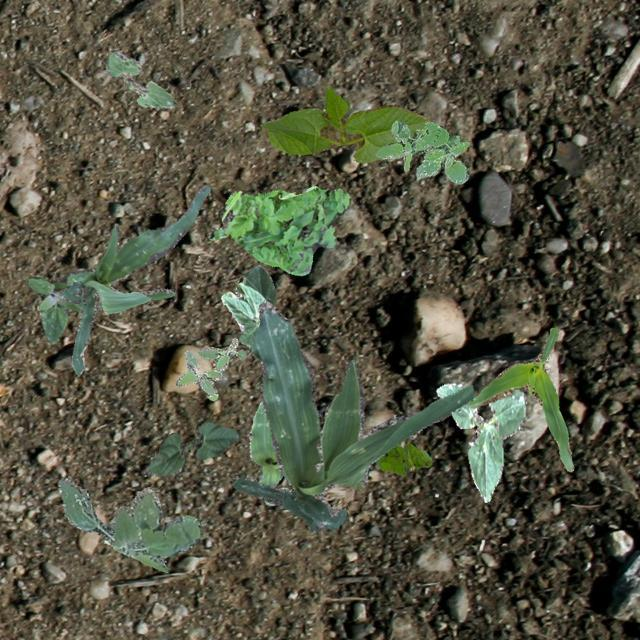crop: (230, 299, 472, 532), (61, 184, 209, 374), (468, 326, 572, 470), (260, 86, 428, 162), (436, 382, 526, 502), (144, 420, 240, 476), (220, 264, 274, 346), (248, 400, 290, 504), (104, 48, 174, 106)
weed: (58, 476, 200, 572), (206, 186, 348, 274), (374, 120, 468, 182), (26, 268, 94, 342), (174, 336, 246, 399), (374, 442, 430, 474)
